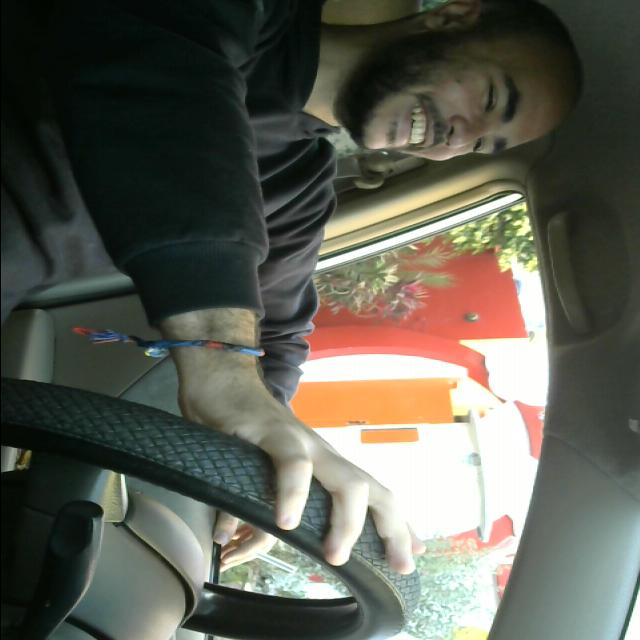smoking: (212, 530, 304, 576)
